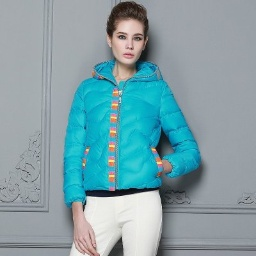face: (98, 1, 158, 73)
